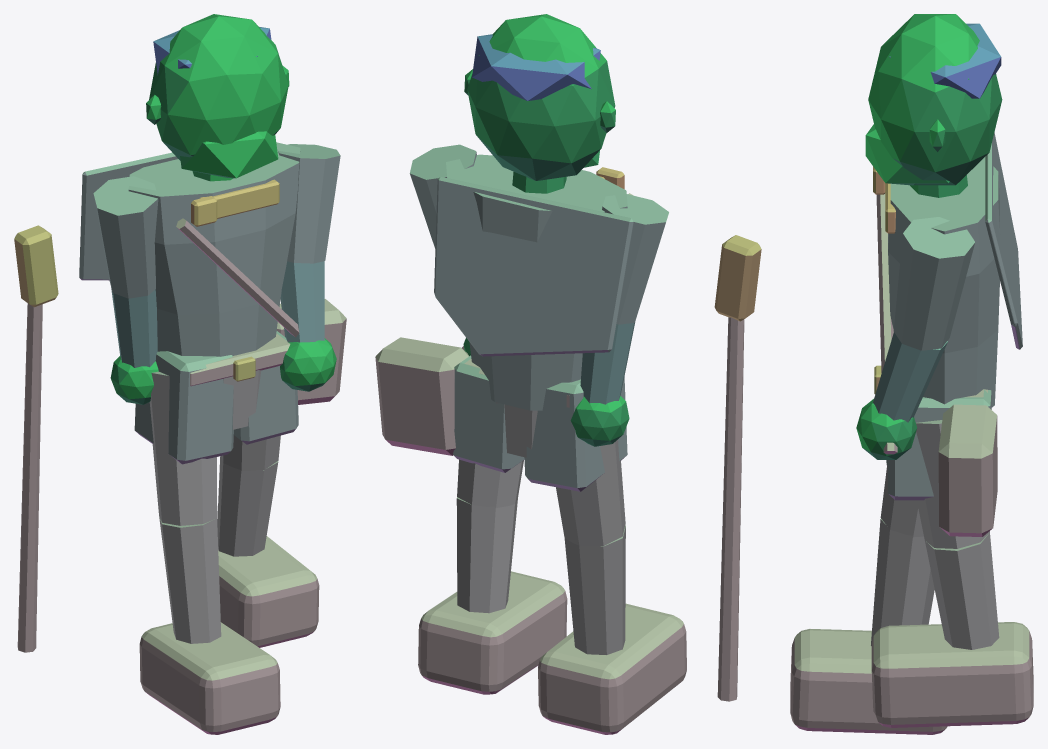
File: npc_scout_passing_l_v01.glb
The picture shows the model from 3 angles, left to right: view 1: azimuth 30°, elevation 25°; view 2: azimuth 150°, elevation 25°; view 3: azimuth 270°, elevation 25°; orthographic projection. The views are drawn at different scales.
Visible parts, largest first — view 1: GEO_npc_scout_passing_l_v01; view 2: GEO_npc_scout_passing_l_v01; view 3: GEO_npc_scout_passing_l_v01.
Part boxes in pixels (x1,y1,x2,y2): GEO_npc_scout_passing_l_v01: [14, 14, 346, 734]; GEO_npc_scout_passing_l_v01: [375, 14, 761, 734]; GEO_npc_scout_passing_l_v01: [790, 14, 1033, 734].
Size of the model in its own units: 1.1 by 2.06 by 0.6278.
